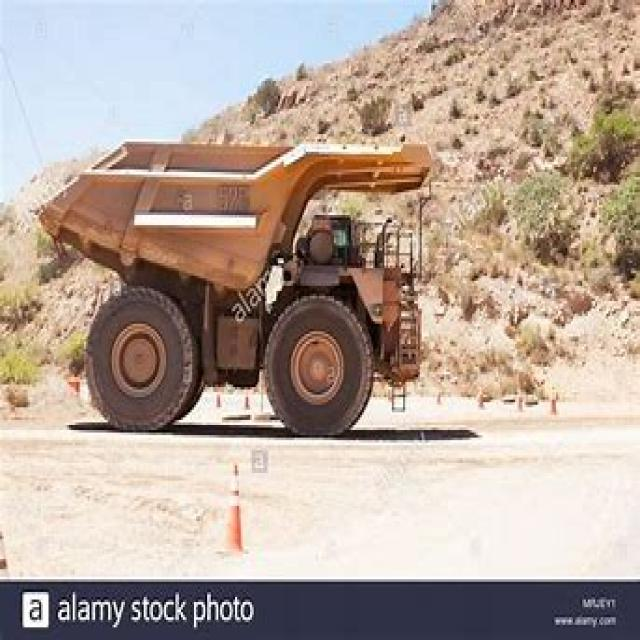dump_truck: (39, 111, 452, 440)
